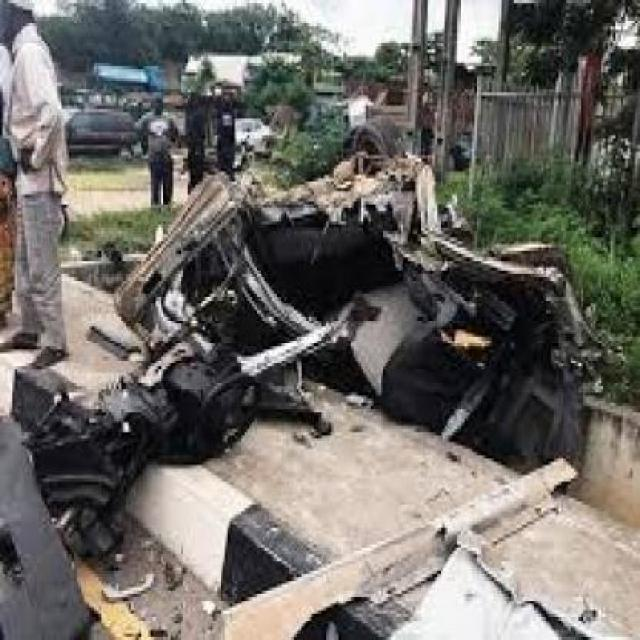accident: (18, 93, 634, 592)
